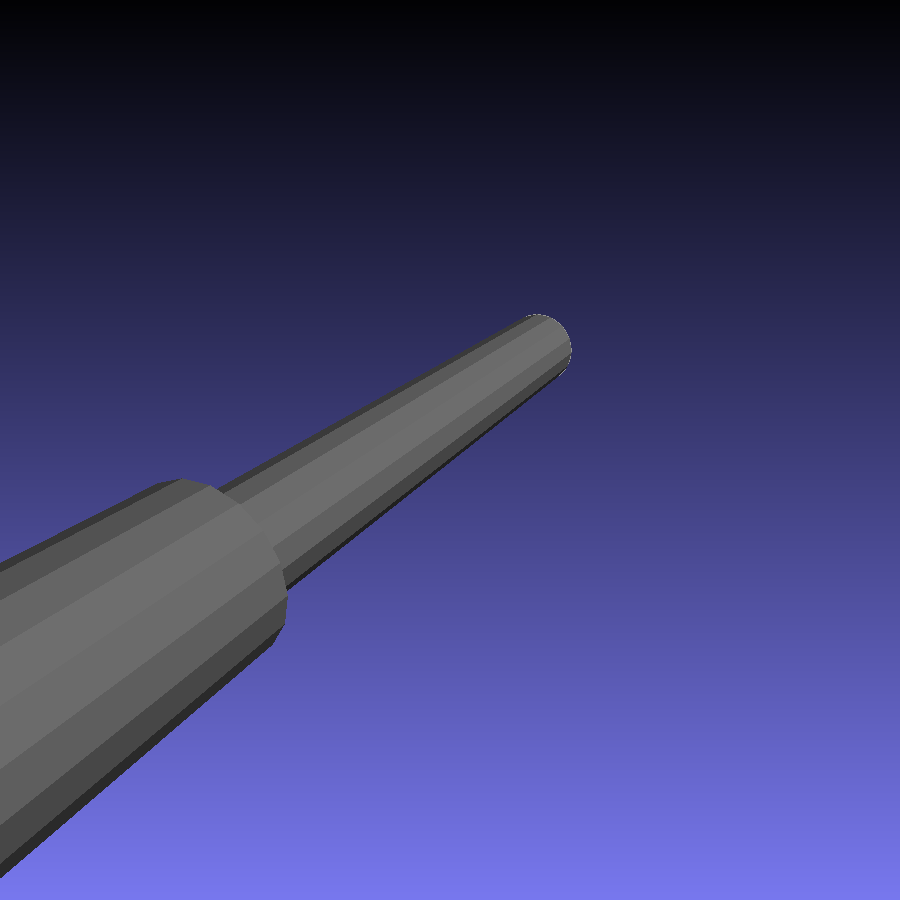cargo_g: (1, 313, 573, 878)
